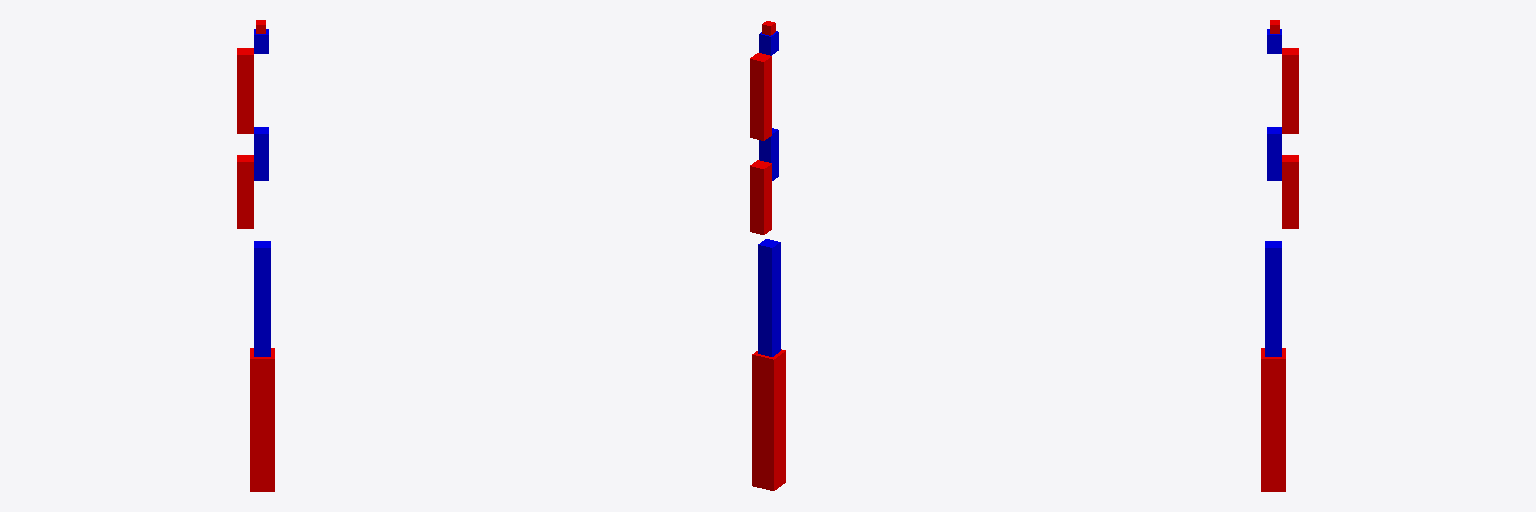
URDF robot description (armdemo):
<?xml version="1.0" ?>
<robot name="armdemo">

  <material name="red">
    <color rgba="1.0 0.0 0.0 1.0"/>
  </material>
  <material name="green">
    <color rgba="0.0 1.0 0.0 1.0"/>
  </material>
  <material name="blue">
    <color rgba="0.0 0.0 1.0 1.0"/>
  </material>

  <!-- base(world) -->
  <link name="base_link"/>
  
  <!-- base joint  -->
  <joint name="base_joint" type="fixed">
    <parent link="base_link"/>
    <child link="link1"/>
  </joint>
 
  <!-- Link1 link & joint -->
  <link name="link1">
    <collision>
      <origin rpy="0 0 0" xyz="0 0 0.35"/>
      <geometry>
        <box size="0.12 0.12 0.7"/>
      </geometry>
    </collision>
    <visual>
      <origin rpy="0 0 0" xyz="0 0 0.35"/>
      <geometry>
        <box size="0.12 0.12 0.7"/>
      </geometry>
      <material name="red"/>
    </visual>
    <inertial>
      <origin rpy="0 0 0" xyz="0 0 0"/>
      <mass value="50"/>
      <inertia ixx="0" ixy="0.1" ixz="0.0" iyy="1" iyz="0.0" izz="0.1"/>
    </inertial>
  </link>
   <joint name="joint1" type="revolute">
    <parent link="link1"/>
    <child link="link2"/>
    <origin rpy="0 0 0" xyz="0 0 0.7"/>
   
    <axis xyz="0 0 1"/>
    <dynamics damping="0.05"/>
    <limit effort="30" lower="-3" upper="3" velocity="2"/>
  </joint>
  
  <!-- Link2 link & joint -->
  <link name="link2">
    <collision>
      <origin rpy="0 0 0" xyz="0 0 0.29"/>
      <geometry>
        <box size="0.08 0.08 0.58"/>
      </geometry>
    </collision>
    <visual>
      <origin rpy="0 0 0" xyz="0 0 0.29"/>
      <geometry>
        <box size="0.08 0.08 0.58"/>
      </geometry>
      <material name="blue"/>
    </visual>
    <inertial>
      <origin rpy="0 0 0" xyz="0 0 0.1"/>
      <mass value="0.1"/>
      <inertia ixx="0.01" ixy="0.0" ixz="0.0" iyy="0.01" iyz="0.0" izz="0.01"/>
    </inertial>
  </link>
  <!-- joint2 -->
  <joint name="joint2" type="revolute">
    <parent link="link2"/>
    <child link="link3"/>
    <origin rpy="0 0 0" xyz="0 0.08 0.58"/>
   
    <axis xyz="0 1 0"/>
    <dynamics damping="0.05"/>
    <limit effort="30" lower="-1.6" upper="1.6" velocity="2"/>
  </joint>
  
  <!-- Link3 link & joint -->
 
  <link name="link3">
    <collision>
      <origin rpy="0 0 0" xyz="0 0 0.275"/>
      <geometry>
        <box size="0.08 0.08 0.35"/>
      </geometry>
    </collision>
    <visual>
      <origin rpy="0 0 0" xyz="0 0 0.275"/>
      <geometry>
        <box size="0.08 0.08 0.35"/>
      </geometry>
      <material name="red"/>
    </visual>
    <inertial>
      <origin rpy="0 0 0" xyz="0 0 0.1"/>
      <mass value="0.1"/>
       <inertia ixx="0.01" ixy="0.0" ixz="0.0" iyy="0.01" iyz="0.0" izz="0.01"/>
    </inertial>
  </link>
  <!-- joint3 -->
  <joint name="joint3" type="revolute">
    <parent link="link3"/>
    <child link="link4"/>
    <origin rpy="0 0 0" xyz="0 -0.075 0.35"/>

    <axis xyz="0 1 0"/>
    <dynamics damping="0.1"/>
    <limit effort="30" lower="-3" upper="3" velocity="2"/>
  </joint>

  <!-- Link4 link & joint -->
 
  <link name="link4">
    <collision>
      <origin rpy="0 0 0" xyz="0 0 0.075"/>
      <geometry>
        <box size="0.07 0.07 0.15"/>
      </geometry>
    </collision>
    <visual>
      <origin rpy="0 0 0" xyz="0 0 0.075"/>
      <geometry>
        <box size="0.07 0.07 0.15"/>
      </geometry>
      <material name="blue"/>
    </visual>
    <inertial>
      <origin rpy="0 0 0" xyz="0 0 0.1"/>
      <mass value="0.1"/>
       <inertia ixx="0.01" ixy="0.0" ixz="0.0" iyy="0.01" iyz="0.0" izz="0.01"/>
    </inertial>
  </link>
  <joint name="joint4" type="revolute">
    <parent link="link4"/>
    <child link="link5"/>
    <origin rpy="0 0 0" xyz="0 0 0.15"/>
 
    <axis xyz="0 0 1"/>
    <dynamics damping="0.1"/>
    <limit effort="30" lower="-3" upper="3" velocity="2"/>
  </joint>

  <!-- Link5 link & joint -->
  <link name="link5">
        <collision>
      <origin rpy="0 0 0" xyz="0 0 0.05"/>
      <geometry>
        <box size="0.07 0.07 0.1"/>
      </geometry>
    </collision>
    <visual>
      <origin rpy="0 0 0" xyz="0 0 0.05"/>
      <geometry>
        <box size="0.07 0.07 0.1"/>
      </geometry>
      <material name="blue"/>
    </visual>
    <inertial>
      <origin rpy="0 0 0" xyz="0 0 0.1"/>
      <mass value="0.1"/>
       <inertia ixx="0.01" ixy="0.0" ixz="0.0" iyy="0.01" iyz="0.0" izz="0.01"/>
    </inertial>
  </link>
  <joint name="joint5" type="revolute">
    <parent link="link5"/>
    <child link="link6"/>
    <origin rpy="0 0 0" xyz="0 0.075 0.1"/>
 
    <axis xyz="0 1 0"/>
    <dynamics damping="0.1"/>
    <limit effort="30" lower="-2.25" upper="2.25" velocity="2"/>
  </joint>
  
  <!-- Link6 link & joint -->
  
  <link name="link6">
    <collision>
      <origin rpy="0 0 0" xyz="0 0 0.21"/>
      <geometry>
        <box size="0.08 0.08 0.42"/>
      </geometry>
    </collision>
    <visual>
      <origin rpy="0 0 0" xyz="0 0 0.21"/>
      <geometry>
        <box size="0.08 0.08 0.42"/>
      </geometry>
      <material name="red"/>
    </visual>
    <inertial>
      <origin rpy="0 0 0" xyz="0 0 0.1"/>
      <mass value="0.1"/>
       <inertia ixx="0.01" ixy="0.0" ixz="0.0" iyy="0.01" iyz="0.0" izz="0.01"/>
    </inertial>
  </link>
  <joint name="joint6" type="revolute">
    <parent link="link6"/>
    <child link="link7"/>
    <origin rpy="0 0 0" xyz="0 -0.075 0.42"/>
    <axis xyz="0 1 0"/>
    <dynamics damping="0.1"/>
    <limit effort="30" lower="-3" upper="3" velocity="2"/>
  </joint>

  <!-- Link7 link & joint -->
  <link name="link7">
    <collision>
      <origin rpy="0 0 0" xyz="0 0 0.05"/>
      <geometry>
        <box size="0.07 0.07 0.1"/>
      </geometry>
    </collision>
    <visual>
      <origin rpy="0 0 0" xyz="0 0 0.05"/>
      <geometry>
        <box size="0.07 0.07 0.1"/>
      </geometry>
      <material name="blue"/>
    </visual>
    <inertial>
      <origin rpy="0 0 0" xyz="0 0 0.1"/>
      <mass value="0.1"/>
       <inertia ixx="0.01" ixy="0.0" ixz="0.0" iyy="0.01" iyz="0.0" izz="0.01"/>
    </inertial>
  </link>
  <joint name="joint7" type="revolute">
    <parent link="link7"/>
    <child link="link8"/>
    <origin rpy="0 0 0" xyz="0 0 0.1"/>
    <axis xyz="0 0 1"/>
    <dynamics damping="0.1"/>
    <limit effort="30" lower="-3" upper="3" velocity="2"/>
  </joint>

 <!-- Link8 (end effector)-->
  <link name="link8">
    <collision>
      <origin rpy="0 0 0" xyz="0 0 0.025"/>
      <geometry>
        <box size="0.05 0.05 0.05"/>
      </geometry>
    </collision>
    <visual>
      <origin rpy="0 0 0" xyz="0 0 0.025"/>
      <geometry>
        <box size="0.05 0.05 0.05"/>
      </geometry>
      <material name="red"/>
    </visual>
    <inertial>
      <origin rpy="0 0 0" xyz="0 0 0.01"/>
      <mass value="0.1"/>
        <inertia ixx="0.01" ixy="0.0" ixz="0.0" iyy="0.01" iyz="0.0" izz="0.01"/>
    </inertial>
  </link>

  <transmission name="link1_trans">
    <type>transmission_interface/SimpleTransmission</type>
      <joint name="joint1">
      <hardwareInterface>hardware_interface/EffortJointInterface</hardwareInterface>
    </joint>
    <actuator name="link1_motor">
      <hardwareInterface>hardware_interface/EffortJointInterface</hardwareInterface>
      <mechanicalReduction>1</mechanicalReduction>
    </actuator>
  </transmission>
  <transmission name="link2_trans">
    <type>transmission_interface/SimpleTransmission</type>
      <joint name="joint2">
      <hardwareInterface>hardware_interface/EffortJointInterface</hardwareInterface>
    </joint>
    <actuator name="link2_motor">
      <hardwareInterface>hardware_interface/EffortJointInterface</hardwareInterface>
      <mechanicalReduction>1</mechanicalReduction>
    </actuator>
  </transmission>
  <transmission name="link3_trans">
    <type>transmission_interface/SimpleTransmission</type>
      <joint name="joint3">
      <hardwareInterface>hardware_interface/EffortJointInterface</hardwareInterface>
    </joint>
    <actuator name="link3_motor">
      <hardwareInterface>hardware_interface/EffortJointInterface</hardwareInterface>
      <mechanicalReduction>1</mechanicalReduction>
    </actuator>
  </transmission>
  <transmission name="link4_trans">
    <type>transmission_interface/SimpleTransmission</type>
      <joint name="joint4">
      <hardwareInterface>hardware_interface/EffortJointInterface</hardwareInterface>
    </joint>
    <actuator name="link4_motor">
      <hardwareInterface>hardware_interface/EffortJointInterface</hardwareInterface>
      <mechanicalReduction>1</mechanicalReduction>
    </actuator>
  </transmission>
  <transmission name="link5_trans">
    <type>transmission_interface/SimpleTransmission</type>
      <joint name="joint5">
      <hardwareInterface>hardware_interface/EffortJointInterface</hardwareInterface>
    </joint>
    <actuator name="link5_motor">
      <hardwareInterface>hardware_interface/EffortJointInterface</hardwareInterface>
      <mechanicalReduction>1</mechanicalReduction>
    </actuator>
  </transmission>
  <transmission name="link6_trans">
    <type>transmission_interface/SimpleTransmission</type>
      <joint name="joint6">
      <hardwareInterface>hardware_interface/EffortJointInterface</hardwareInterface>
    </joint>
    <actuator name="link6_motor">
      <hardwareInterface>hardware_interface/EffortJointInterface</hardwareInterface>
      <mechanicalReduction>1</mechanicalReduction>
    </actuator>
  </transmission>
  <transmission name="link7_trans">
    <type>transmission_interface/SimpleTransmission</type>
      <joint name="joint7">
      <hardwareInterface>hardware_interface/EffortJointInterface</hardwareInterface>
    </joint>
    <actuator name="link7_motor">
      <hardwareInterface>hardware_interface/EffortJointInterface</hardwareInterface>
      <mechanicalReduction>1</mechanicalReduction>
    </actuator>
  </transmission>
  <gazebo>
    <plugin name="gazebo_ros_control" filename="libgazebo_ros_control.so">
      <robotNamespace>/</robotNamespace>
      <robotSimType>gazebo_ros_control/DefaultRobotHWSim</robotSimType>
      <legacyModeNS>true</legacyModeNS>
    </plugin>
  </gazebo>

</robot>

--- Facts derived from the render (not from the file) ---
3 views of the same robot in one strip: view 1: azimuth 90°, elevation 25°; view 2: azimuth 150°, elevation 25°; view 3: azimuth 270°, elevation 25° (orthographic).
Robot: armdemo — 9 links, 8 joints (7 revolute, 1 fixed); root link base_link; default pose: every joint at zero.
Links seen in each view (by area): view 1: link1, link2, link6, link3; view 2: link1, link2, link6, link3; view 3: link1, link2, link6, link3.
Link boxes in pixels (x1=…): link1: x1=250, y1=348, x2=274, y2=491; link2: x1=254, y1=241, x2=270, y2=356; link6: x1=237, y1=48, x2=253, y2=133; link3: x1=237, y1=155, x2=253, y2=228; link1: x1=752, y1=349, x2=785, y2=490; link2: x1=758, y1=239, x2=780, y2=356; link6: x1=750, y1=53, x2=771, y2=140; link3: x1=750, y1=160, x2=771, y2=234; link1: x1=1261, y1=348, x2=1285, y2=491; link2: x1=1265, y1=241, x2=1281, y2=356; link6: x1=1282, y1=48, x2=1298, y2=133; link3: x1=1282, y1=155, x2=1298, y2=228.
Size in the robot's own frame: 0.12 by 0.18 by 2.45 metres.
Geometry: primitives only (box / cylinder / sphere), no mesh files.